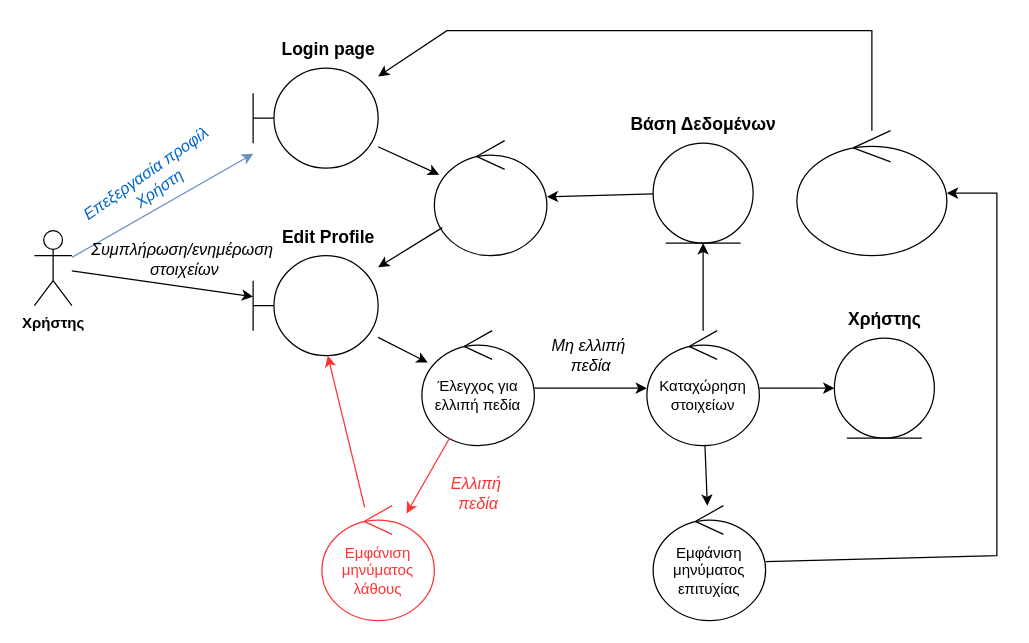
The diagram is 1029 pixels wide and 643 high, and some of its shapes have lost their labels. The box of each missing label's shape, as (x1, y1, x2, y2) in pixels:
Εμφάνιση αρχικής σελίδας με τις ενημερώσεις: (796, 129, 947, 256)
Εμφάνιση φόρμα συμπλήρωσης στοιχείων: (433, 139, 547, 256)
